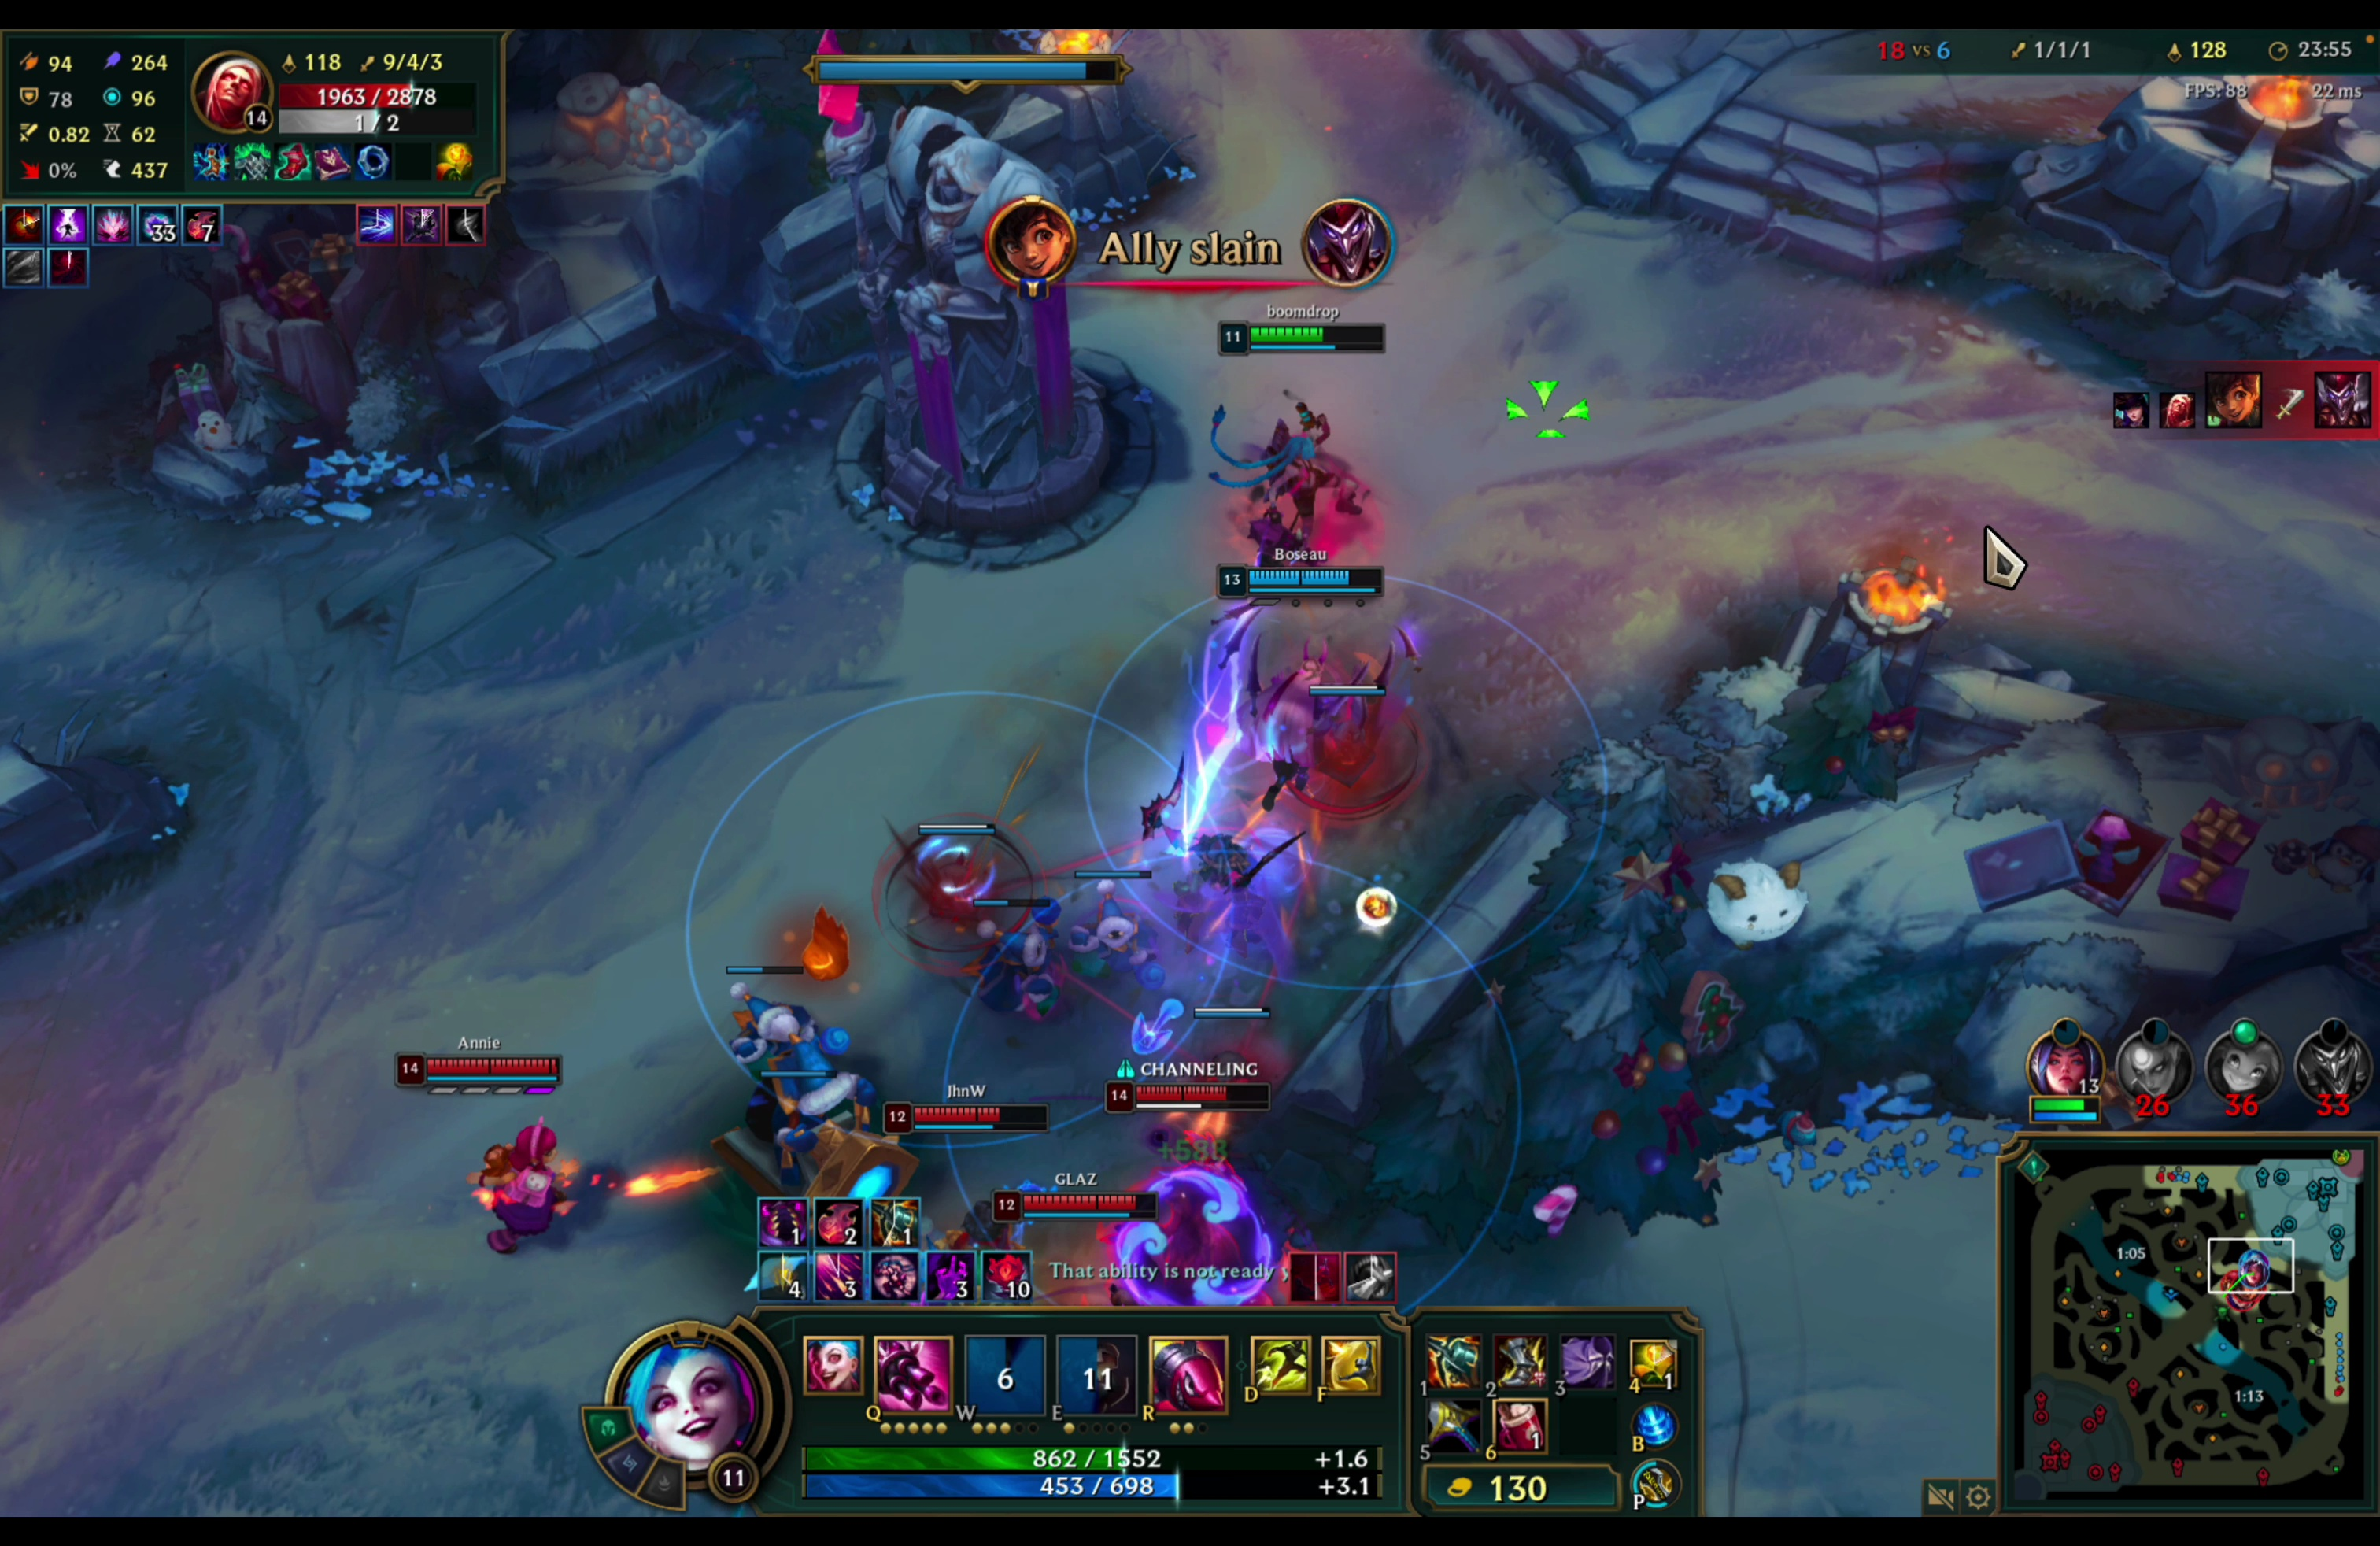JINX_W_PROJECTILE: (1141, 297, 1429, 892)
